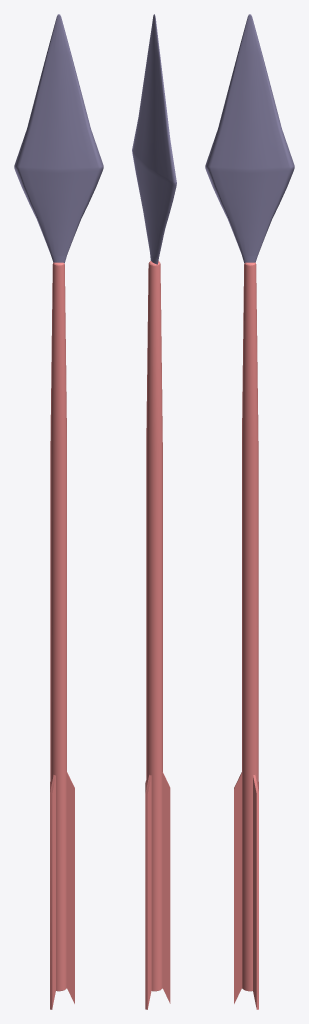
Rendered from viking_arrow_3.FBX.
The picture shows the model from 3 angles, left to right: view 1: azimuth 90°, elevation 25°; view 2: azimuth 210°, elevation 25°; view 3: azimuth 270°, elevation 25°; orthographic projection.
Parts seen in each view (by area): view 1: viking_arrow_3; view 2: viking_arrow_3; view 3: viking_arrow_3.
Part boxes in pixels (x1,y1,x2,y2): viking_arrow_3: (14,14,103,1009); viking_arrow_3: (132,14,176,1009); viking_arrow_3: (205,14,294,1009).
Bounding box in the file's own units: 4.74 × 179 × 14.66.
